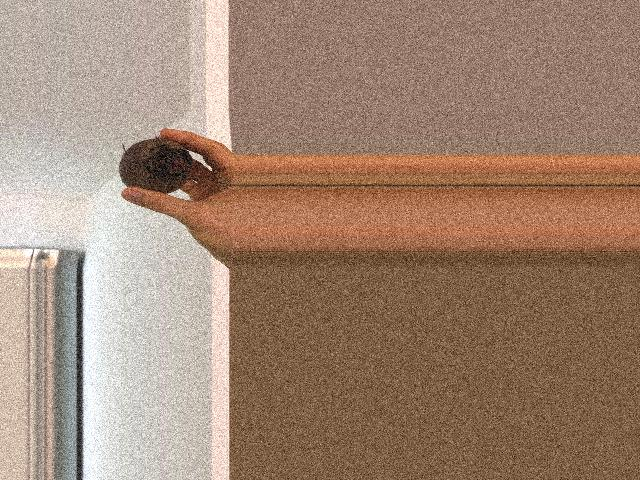beet: (118, 136, 234, 195)
